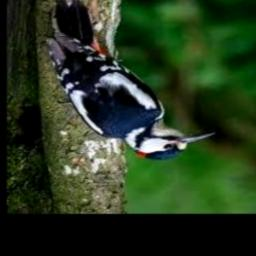Woodpecker: (46, 0, 215, 160)
